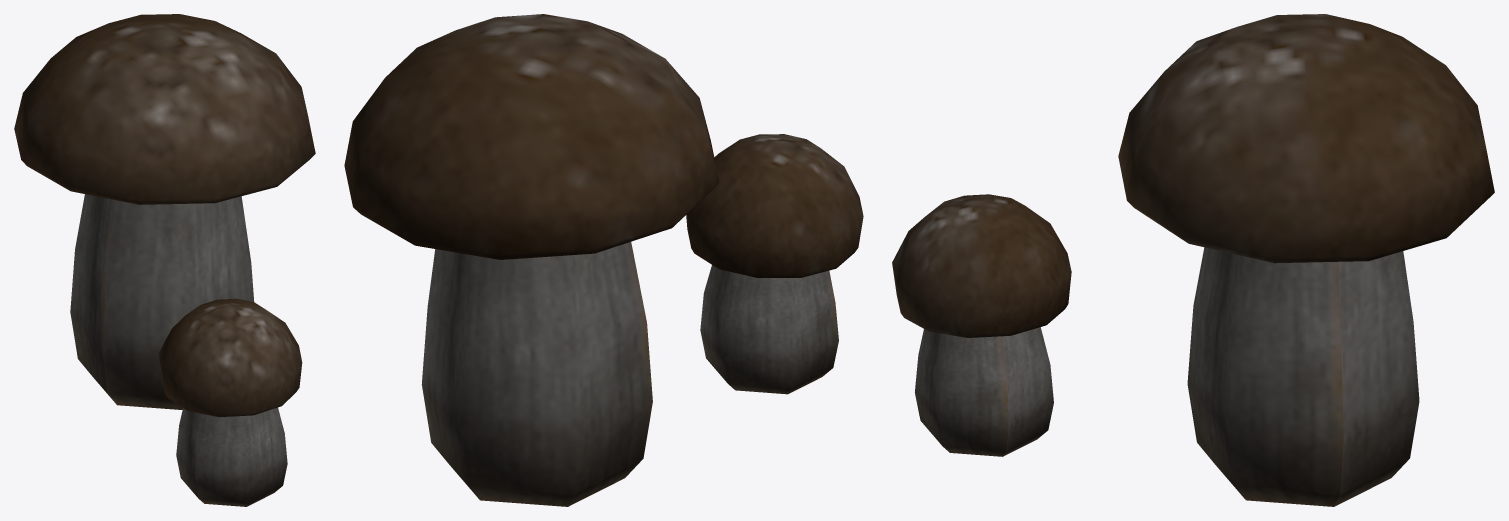
Rendered from mushroom_n_2_2.obj.
3 renders of one model, left to right at view 1: azimuth 30°, elevation 25°; view 2: azimuth 150°, elevation 25°; view 3: azimuth 270°, elevation 25°, orthographic. The views are drawn at different scales.
Parts seen in each view (by area): view 1: mushroom_n_2_2; view 2: mushroom_n_2_2; view 3: mushroom_n_2_2.
Part boxes in pixels (bbox=[...]): mushroom_n_2_2: bbox=[14, 14, 315, 506]; mushroom_n_2_2: bbox=[344, 14, 863, 506]; mushroom_n_2_2: bbox=[892, 14, 1494, 506].
Size of the model in its own units: 0.1024 by 0.1306 by 0.1639.
